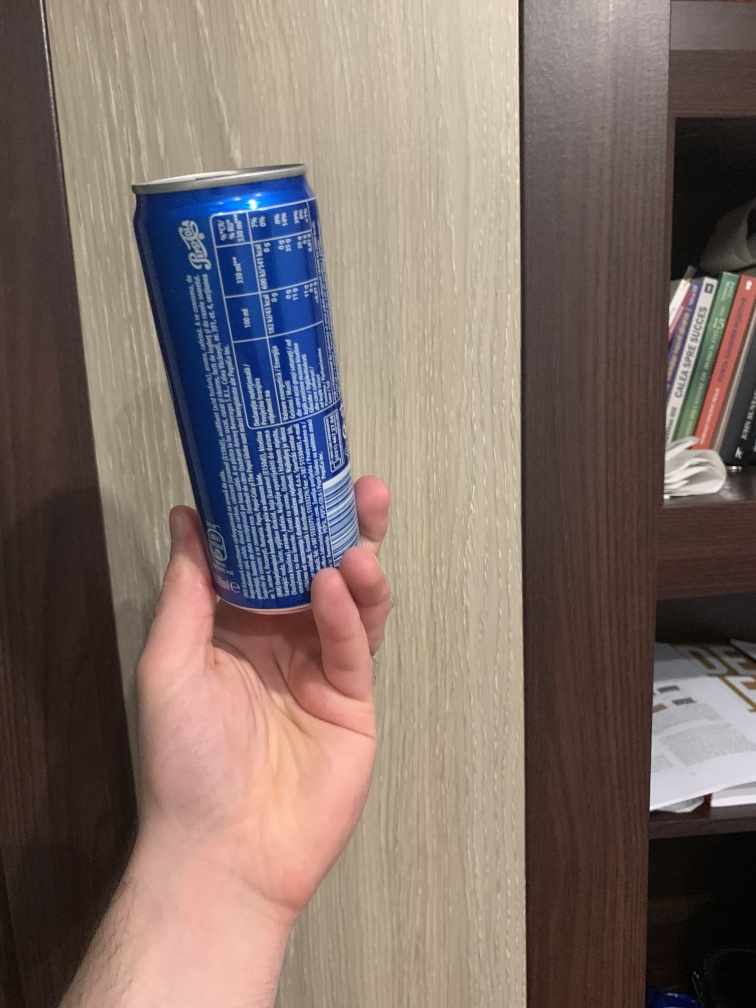pepsi: (124, 154, 387, 628)
